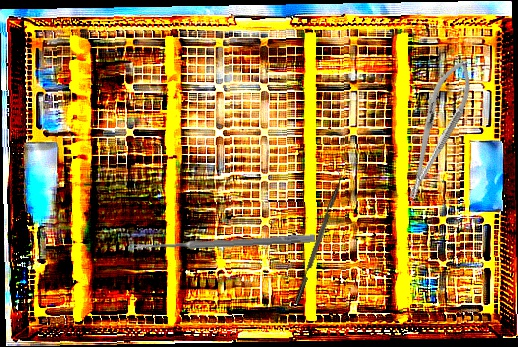Chopper: (288, 167, 347, 305)
Needle Holder: (394, 53, 481, 205)
Surgical Spoon: (132, 233, 316, 252)
